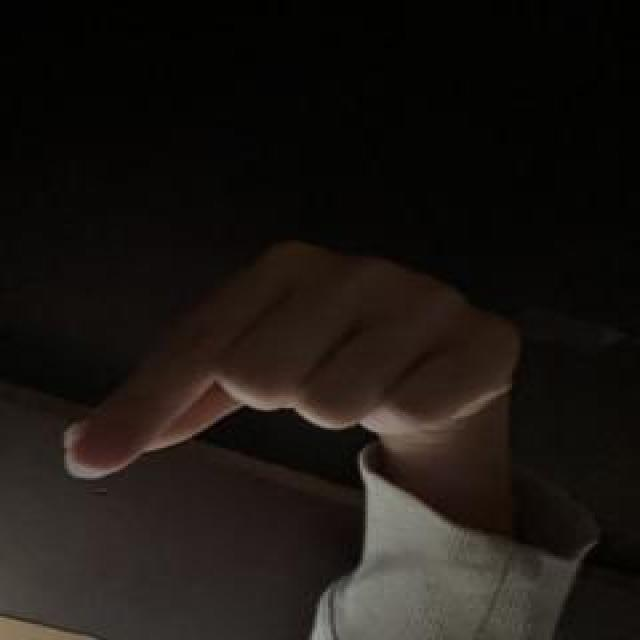Q: (54, 235, 526, 487)
